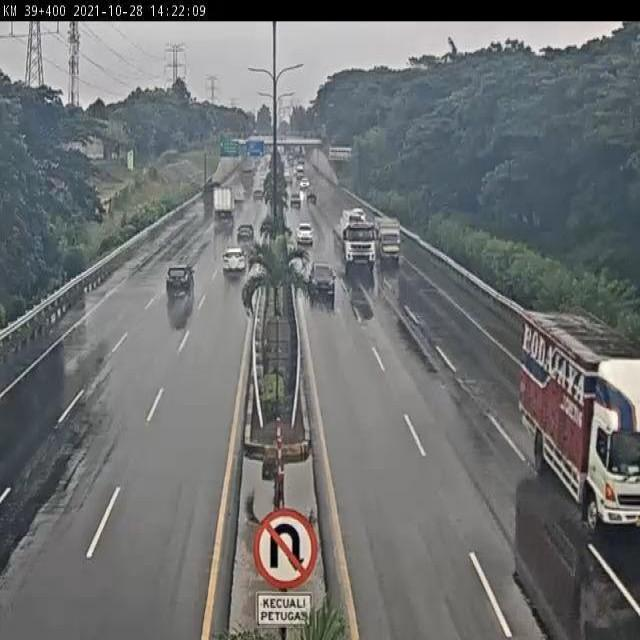car: (164, 260, 200, 299), (308, 260, 338, 301), (221, 245, 248, 278), (295, 220, 316, 248), (235, 219, 254, 245)
truck-l-: (518, 308, 640, 535)
truck-s-: (374, 211, 404, 269)
truck-xl-: (331, 207, 378, 272)
